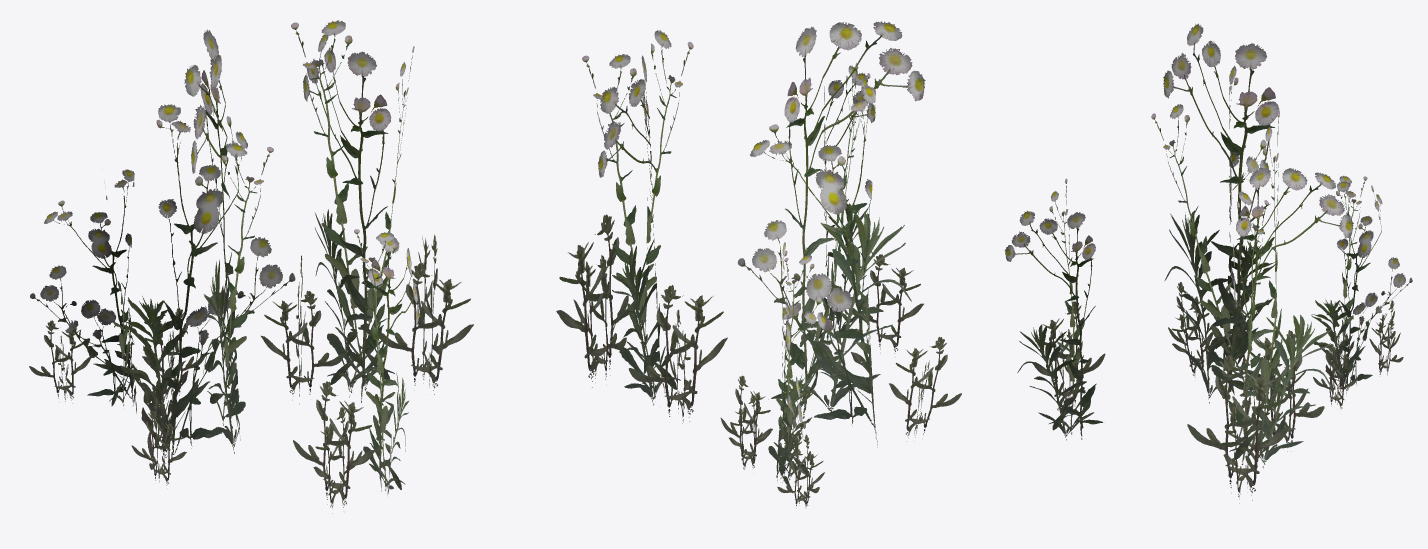
Rendered from prop_flowerweed_005_a.FBX.
3 views of the same model, side by side, from view 1: azimuth 30°, elevation 25°; view 2: azimuth 150°, elevation 25°; view 3: azimuth 270°, elevation 25° (orthographic). The views are drawn at different scales.
Visible parts, largest first — view 1: prop_flowerweed_005_a; view 2: prop_flowerweed_005_a; view 3: prop_flowerweed_005_a.
Boxes of the visible parts, bbox=[...] form: prop_flowerweed_005_a: bbox=[29, 20, 473, 513]; prop_flowerweed_005_a: bbox=[556, 21, 961, 506]; prop_flowerweed_005_a: bbox=[1004, 23, 1412, 503].
Size of the model in its own units: 1.42 by 1.47 by 1.51.
1 material, 1 textured.
